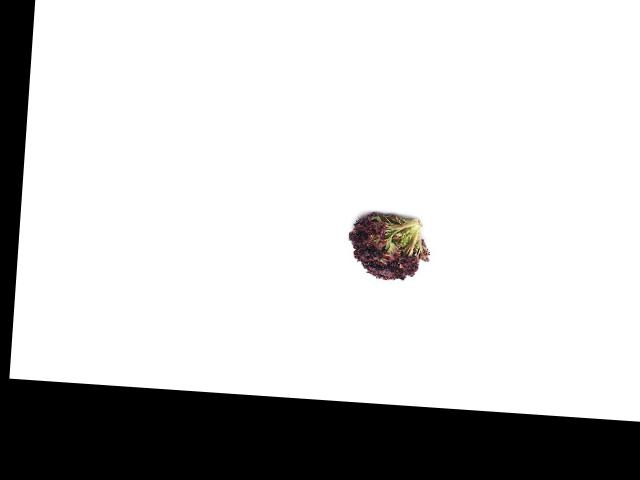lettuce: (342, 205, 428, 285)
